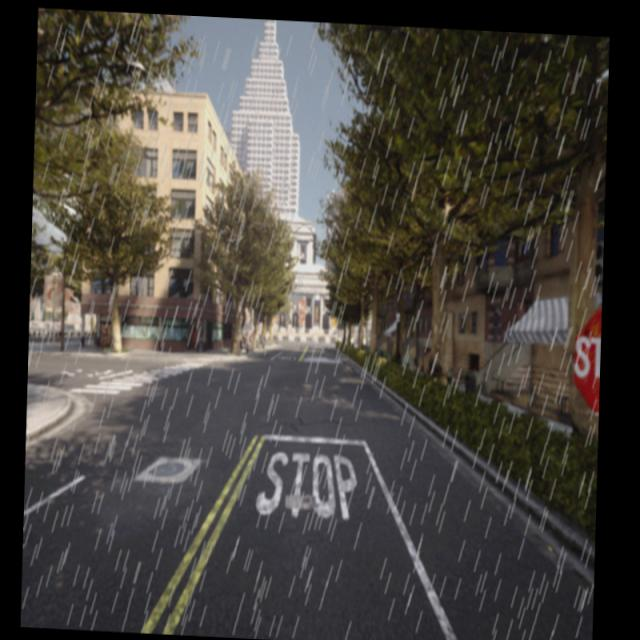stop sign: (570, 304, 602, 415)
